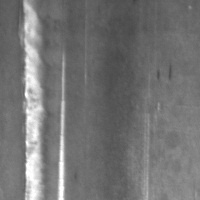scratches: (17, 0, 51, 199), (55, 49, 71, 199)
